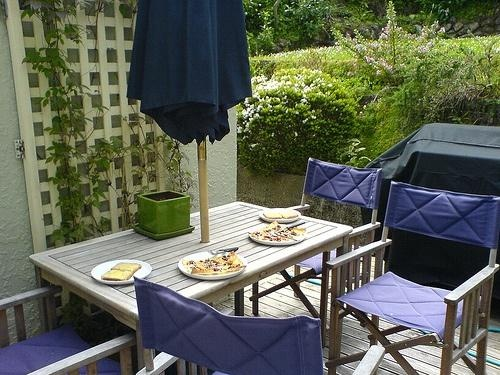chair: (327, 178, 500, 375), (131, 275, 387, 375), (252, 155, 385, 322), (1, 284, 138, 375)
